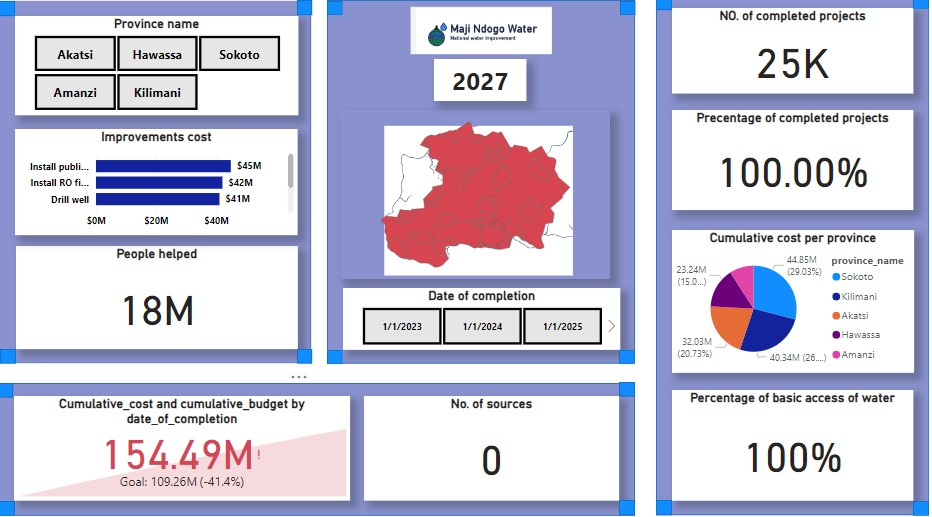

The page's visual inventory and layout, read from the dashboard file:
{"tool":"powerbi","page":{"name":"Overview","canvas":[1280,720],"ordinal":0},"visuals":[{"type":"shape","box":[480.3,19.8,403,475.8],"z":0},{"type":"shape","box":[50.4,19.8,410.2,475.8],"z":1000},{"type":"image","box":[519,179,320.2,206],"z":2000},{"type":"shape","box":[911.2,13.5,357.1,680.9],"z":3000},{"type":"card","title":"NO. of completed projects","fields":{"Values":["project_progress.Number_completed_projects"]},"box":[931.9,30.6,315.7,112.4],"z":4000},{"type":"card","title":"Precentage of completed projects","fields":{"Values":["project_progress.Pct_project_complete"]},"box":[931.9,163.7,315.7,131.3],"z":5000},{"type":"shapeMap","fields":{"Category":["project_progress.town"],"Value":["project_progress.Pct_project_complete"]},"box":[497.4,163.7,354.4,221.3],"z":6000},{"type":"actionButton","box":[0,0,100,40],"z":7000},{"type":"card","title":"People helped","fields":{"Values":["water_source.population_now_basic_access"]},"box":[72.9,341.8,368.8,134.9],"z":8000},{"type":"card","title":"Percentage of basic access of water","fields":{"Values":["water_source.Basic_access_to_water"]},"box":[931.9,529.8,315.7,144.8],"z":9000},{"type":"slicer","title":"Date of completion","fields":{"Values":["project_progress.date_of_completion"]},"box":[500.8,396.7,363.1,80.6],"z":10000},{"type":"shape","box":[49.5,520.8,833.8,173.6],"z":11000},{"type":"shape","box":[49.5,520.8,19.8,18.9],"z":12000},{"type":"shape","box":[862.6,519.9,20.7,18.9],"z":13000},{"type":"shape","box":[440.8,476.7,19.8,18.9],"z":14000},{"type":"shape","box":[911.2,674.6,20.7,19.8],"z":15000},{"type":"shape","box":[911.2,13.5,20.7,19.8],"z":16000},{"type":"card","title":"No. of sources","fields":{"Values":["project_progress.No. of sources need to be improved"]},"box":[528.9,537.9,333.7,136.7],"z":17000},{"type":"slicer","title":"Province name","fields":{"Values":["location.province_name"]},"box":[72,40.5,370.6,129.5],"z":18000},{"type":"clusteredBarChart","title":"Improvements cost","fields":{"Category":["project_progress.Aggregated_improvements"],"Y":["Sum(project_progress.cost)"]},"box":[72.4,188.7,370.2,138.7],"z":19000},{"type":"shape","box":[52.2,476.7,20.7,18.9],"z":20000},{"type":"shape","box":[1248,11.4,20.6,19.4],"z":21000},{"type":"shape","box":[1248,674.9,20.6,19.4],"z":22000},{"type":"shape","box":[440.8,19.8,19.8,19.8],"z":23000},{"type":"shape","box":[51.3,20.7,20.7,19.8],"z":24000},{"type":"shape","box":[51.5,674.9,20.6,19.4],"z":25000},{"type":"shape","box":[862.6,674.6,20.7,19.8],"z":26000},{"type":"kpi","fields":{"TrendLine":["project_progress.date_of_completion"],"Goal":["project_progress.cumulative_budget"],"Indicator":["project_progress.Cumulative_cost"]},"box":[70.2,537.9,439.9,136.7],"z":27000},{"type":"pieChart","title":"Cumulative cost per province","fields":{"Y":["project_progress.Cumulative_cost"],"Category":["location.province_name"]},"box":[931.9,320.2,316.6,187.1],"z":28000},{"type":"image","box":[512,23.5,340.7,72.4],"z":29000},{"type":"shape","box":[862.9,477.3,20.4,18.4],"z":30000},{"type":"shape","box":[863.9,20.4,20.4,18.4],"z":31000},{"type":"shape","box":[480.4,477.3,20.4,18.4],"z":32000},{"type":"shape","box":[480.4,21.4,20.4,18.4],"z":33000},{"type":"textbox","box":[620.7,96.2,121.4,54.9],"z":34000}]}

Visuals, with their boxes in screenshot pixels (x1, y1, x2, y2), scaled from the page's 1280x720 canvas onto the 932x517 screenshot:
shape: [x1=350, y1=14, x2=643, y2=356]
shape: [x1=37, y1=14, x2=335, y2=356]
image: [x1=378, y1=129, x2=611, y2=276]
shape: [x1=663, y1=10, x2=923, y2=499]
"NO. of completed projects" card: [x1=679, y1=22, x2=908, y2=103]
"Precentage of completed projects" card: [x1=679, y1=118, x2=908, y2=212]
shapeMap - project_progress.town x project_progress.Pct_project_complete: [x1=362, y1=118, x2=620, y2=276]
actionButton: [x1=0, y1=0, x2=73, y2=29]
"People helped" card: [x1=53, y1=245, x2=322, y2=342]
"Percentage of basic access of water" card: [x1=679, y1=380, x2=908, y2=484]
"Date of completion" slicer: [x1=365, y1=285, x2=629, y2=343]
shape: [x1=36, y1=374, x2=643, y2=499]
shape: [x1=36, y1=374, x2=50, y2=388]
shape: [x1=628, y1=373, x2=643, y2=387]
shape: [x1=321, y1=342, x2=335, y2=356]
shape: [x1=663, y1=484, x2=679, y2=499]
shape: [x1=663, y1=10, x2=679, y2=24]
"No. of sources" card: [x1=385, y1=386, x2=628, y2=484]
"Province name" slicer: [x1=52, y1=29, x2=322, y2=122]
"Improvements cost" clusteredBarChart: [x1=53, y1=135, x2=322, y2=235]
shape: [x1=38, y1=342, x2=53, y2=356]
shape: [x1=909, y1=8, x2=924, y2=22]
shape: [x1=909, y1=485, x2=924, y2=499]
shape: [x1=321, y1=14, x2=335, y2=28]
shape: [x1=37, y1=15, x2=52, y2=29]
shape: [x1=37, y1=485, x2=52, y2=499]
shape: [x1=628, y1=484, x2=643, y2=499]
kpi - project_progress.date_of_completion x project_progress.cumulative_budget: [x1=51, y1=386, x2=371, y2=484]
"Cumulative cost per province" pieChart: [x1=679, y1=230, x2=909, y2=364]
image: [x1=373, y1=17, x2=621, y2=69]
shape: [x1=628, y1=343, x2=643, y2=356]
shape: [x1=629, y1=15, x2=644, y2=28]
shape: [x1=350, y1=343, x2=365, y2=356]
shape: [x1=350, y1=15, x2=365, y2=29]
textbox: [x1=452, y1=69, x2=540, y2=108]
